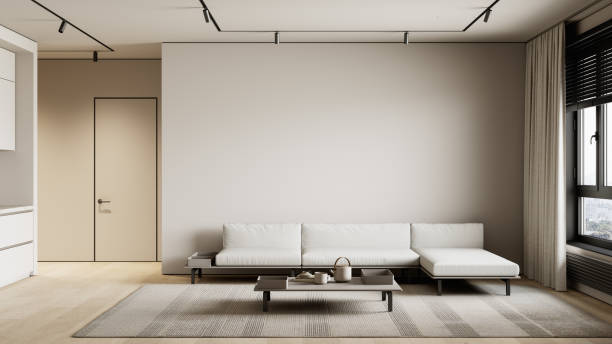sofa: (185, 220, 523, 297)
table: (251, 269, 404, 313)
